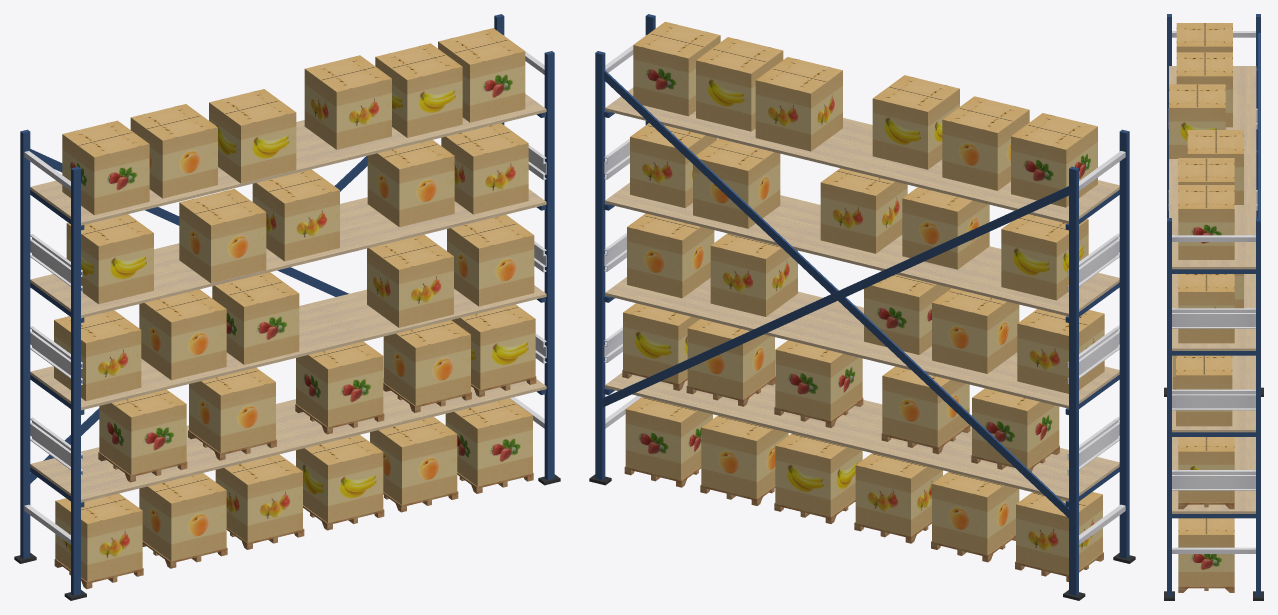
File: BigShelves03Group3.FBX
The picture shows the model from 3 angles, left to right: view 1: azimuth 30°, elevation 25°; view 2: azimuth 150°, elevation 25°; view 3: azimuth 270°, elevation 25°; orthographic projection. The views are drawn at different scales.
Visible parts, largest first — view 1: Cardboard_box08, Cardboard_box07, BigShelves03, BigShelvesWoodBox; view 2: Cardboard_box08, BigShelves03, Cardboard_box07, BigShelvesWoodBox; view 3: BigShelves03, Cardboard_box07, Cardboard_box08, BigShelvesWoodBox.
Part boxes in pixels (x1=…): Cardboard_box08: x1=66, y1=43, x2=535, y2=561; Cardboard_box07: x1=54, y1=28, x2=532, y2=581; BigShelves03: x1=14, y1=14, x2=560, y2=600; BigShelvesWoodBox: x1=54, y1=376, x2=536, y2=589; Cardboard_box08: x1=623, y1=37, x2=1088, y2=554; BigShelves03: x1=589, y1=14, x2=1135, y2=600; Cardboard_box07: x1=625, y1=21, x2=1104, y2=574; BigShelvesWoodBox: x1=622, y1=370, x2=1103, y2=581; BigShelves03: x1=1164, y1=14, x2=1263, y2=600; Cardboard_box07: x1=1172, y1=23, x2=1243, y2=586; Cardboard_box08: x1=1169, y1=52, x2=1243, y2=502; BigShelvesWoodBox: x1=1178, y1=502, x2=1234, y2=592.
Size of the model in its own units: 355 by 299 by 71.14.
